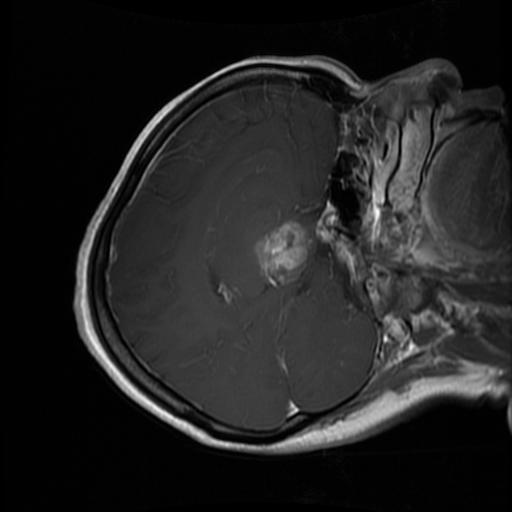glioma: (253, 216, 316, 289)
